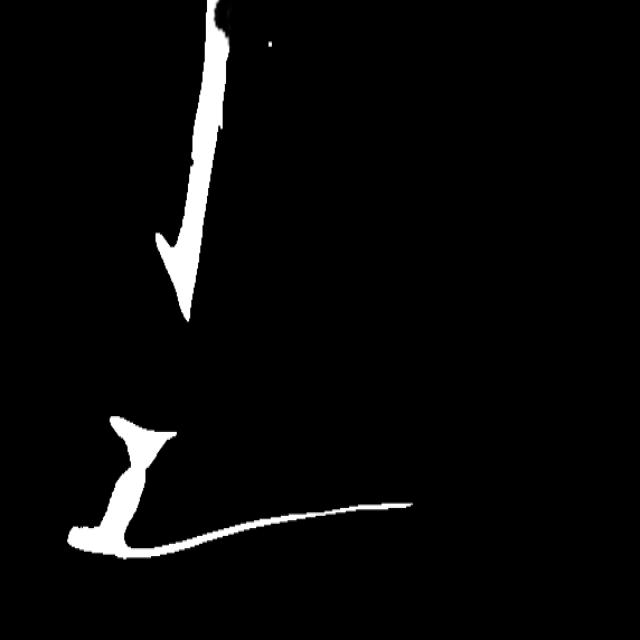sl: (203, 0, 232, 50)
